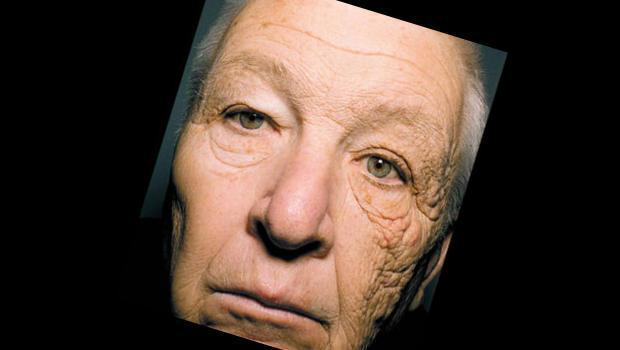Sober: (191, 17, 430, 331)
